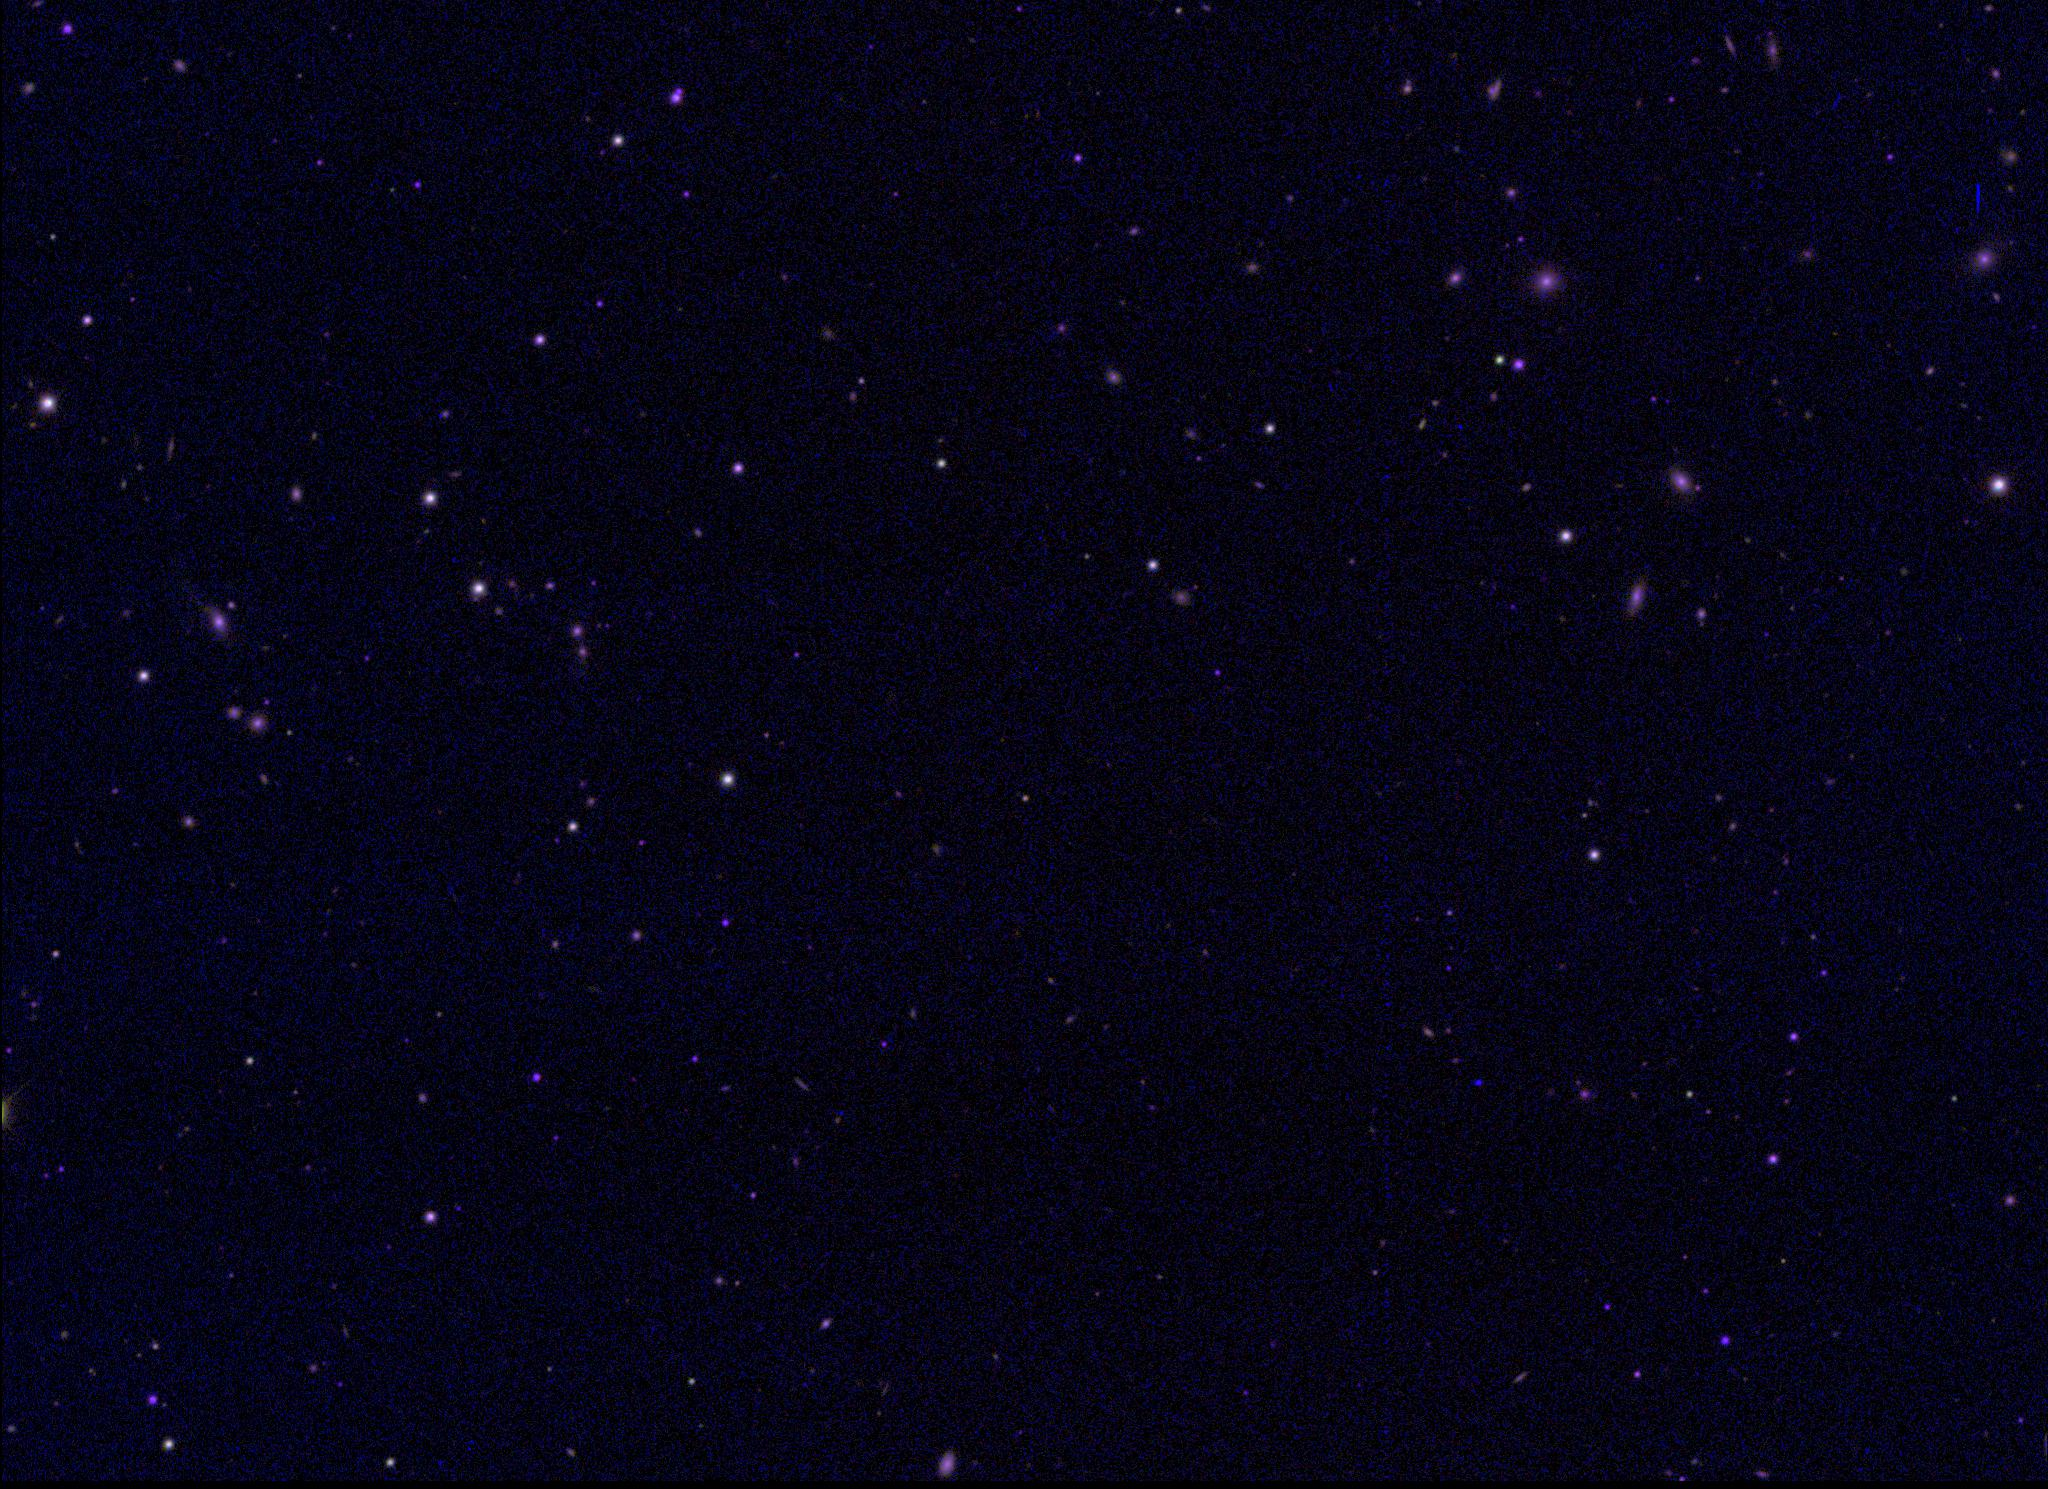L: (1471, 1075, 1485, 1090)
